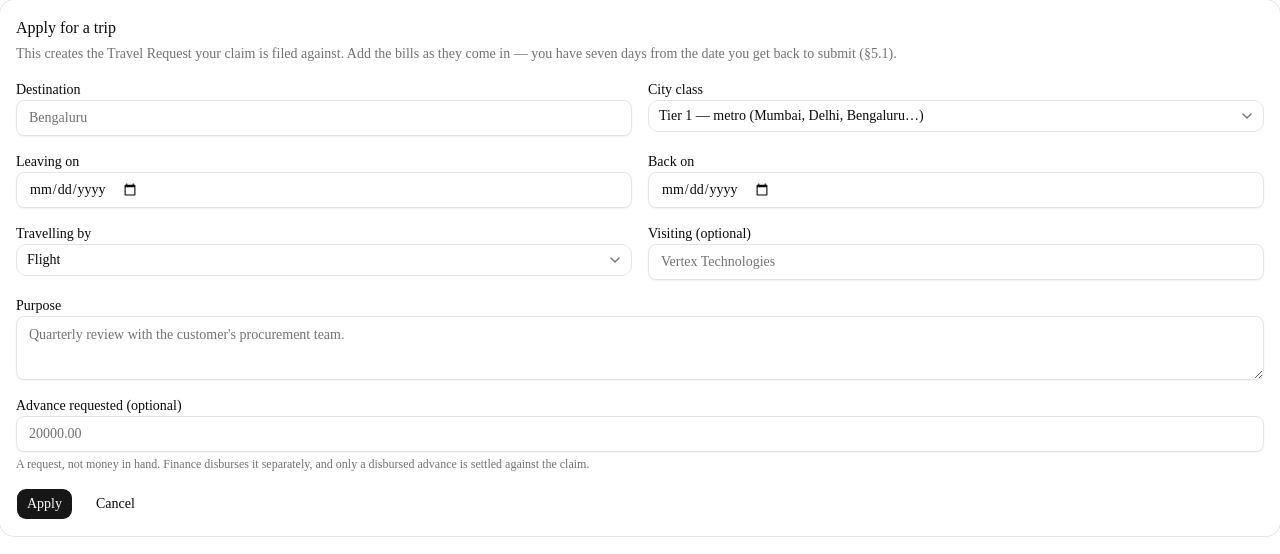
Scenario: NewTripForm › rejects an advance that is not an amount
The width and height of the screenshot is (1280, 554).
In the field labelled "Destination": (324, 118) [16,100,632,136], type "Pune"
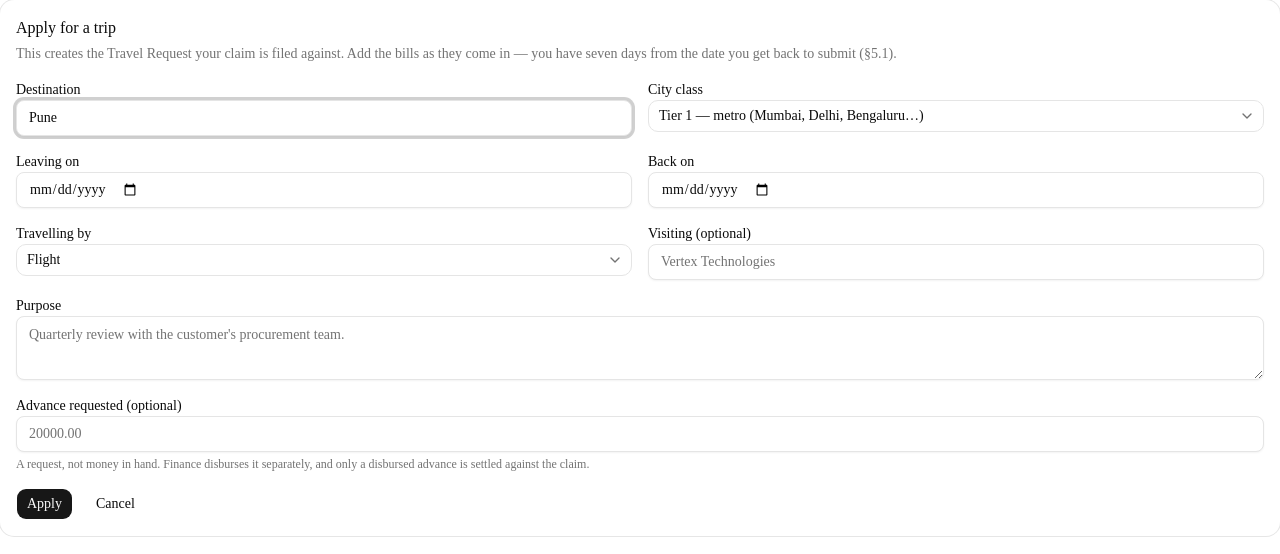
In the text box labelled "Purpose": (640, 348) [16,316,1264,380], type "Commissioning review"
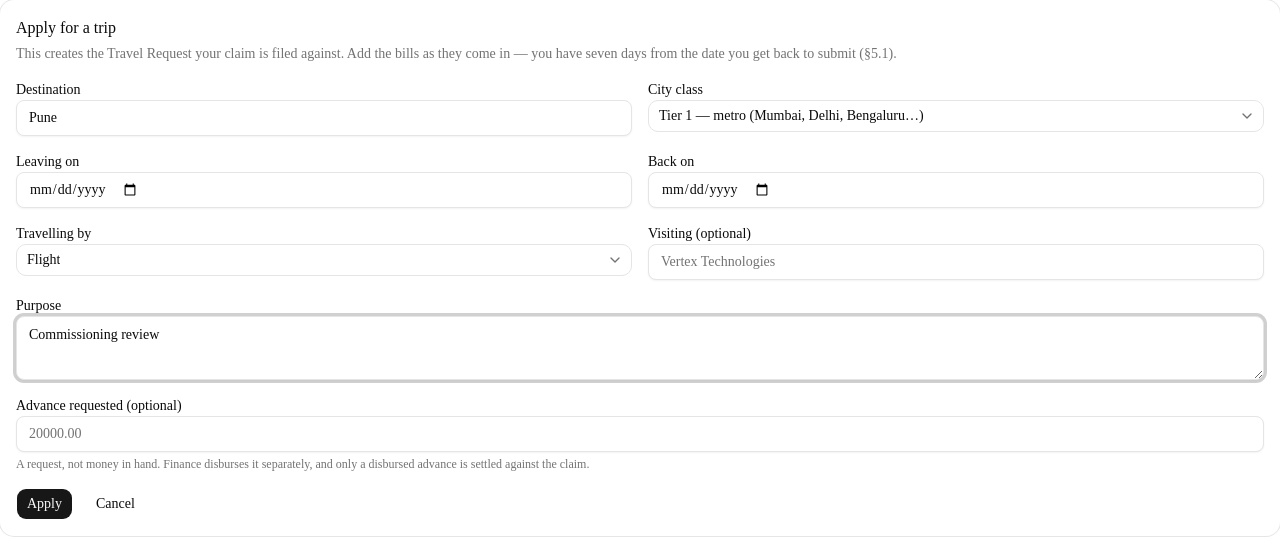
In the date field labelled "Leaving on": (324, 190) [16,172,632,208], type "2026-08-03"
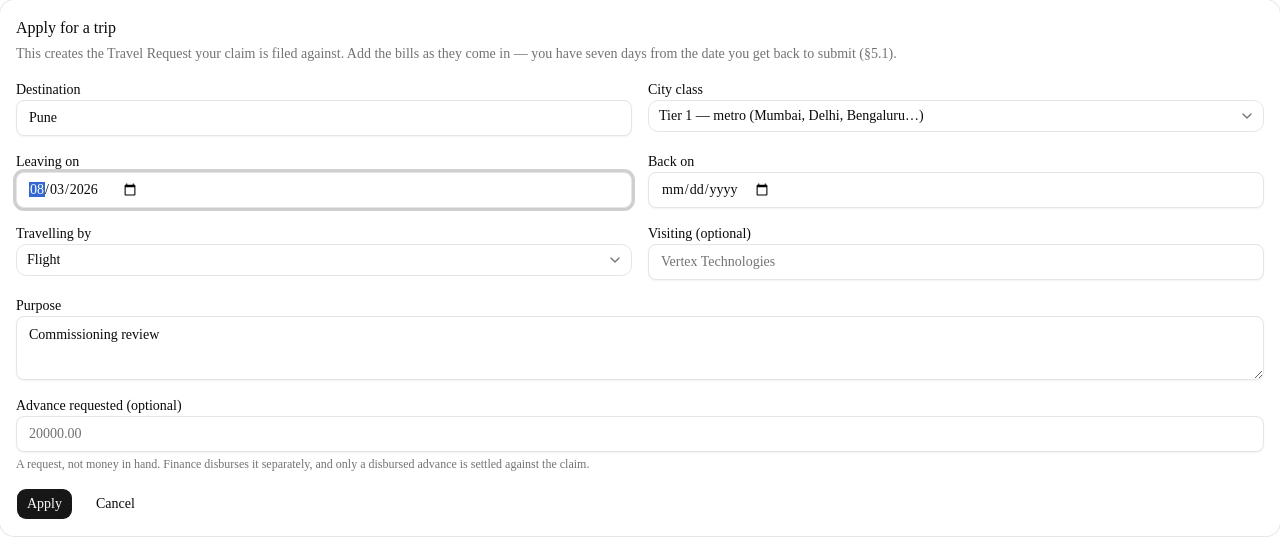
In the date field labelled "Back on": (956, 190) [648,172,1264,208], type "2026-08-06"
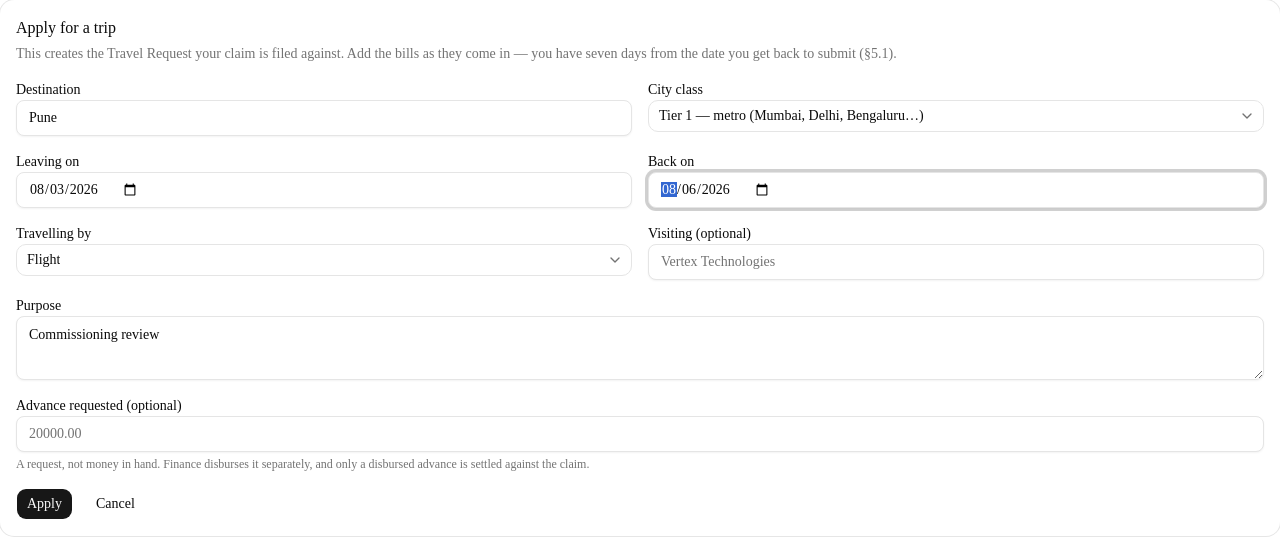
In the 3rd field: (640, 434) [16,416,1264,452], type "twenty thousand"
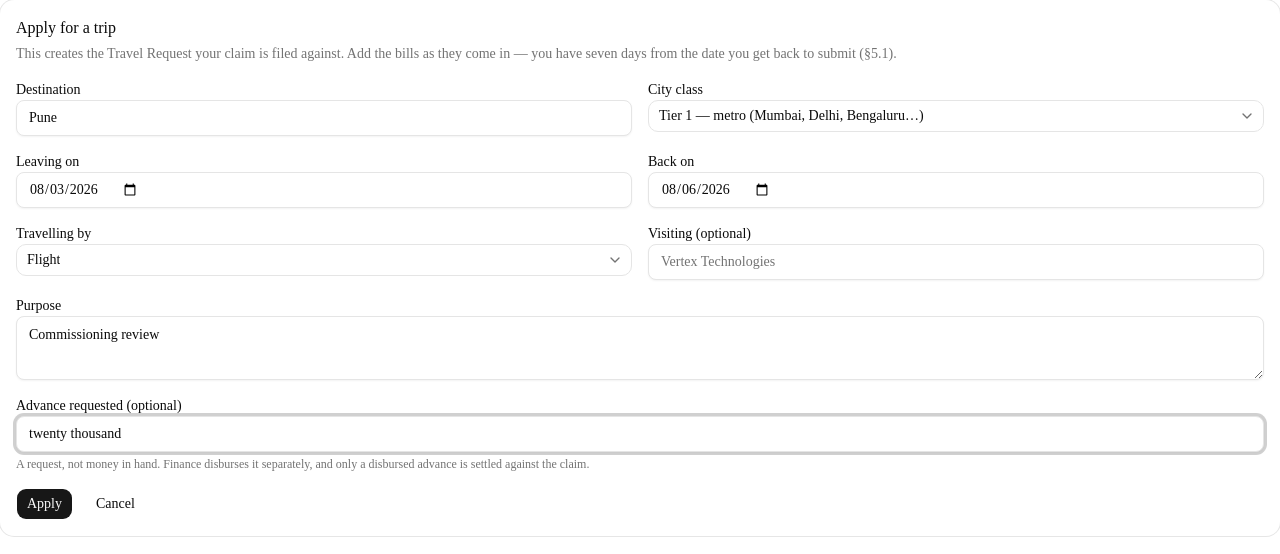
Click the button "Apply": (44, 504) [16,488,73,520]
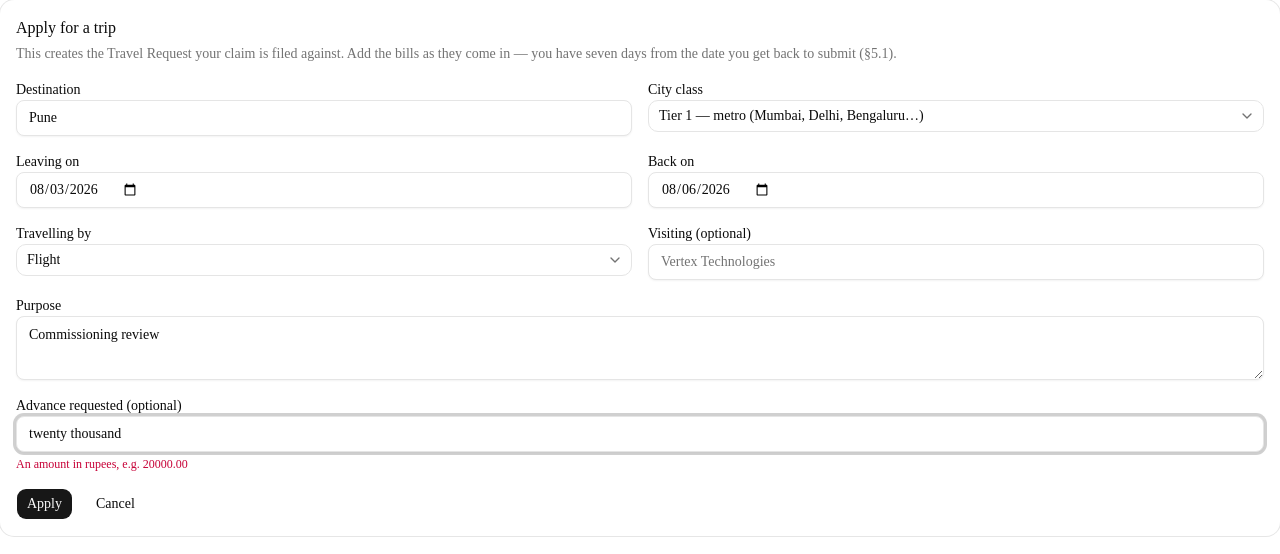
Expected: the text "An amount in rupees, e.g. 20000.00" is shown, [16,457,188,471]
